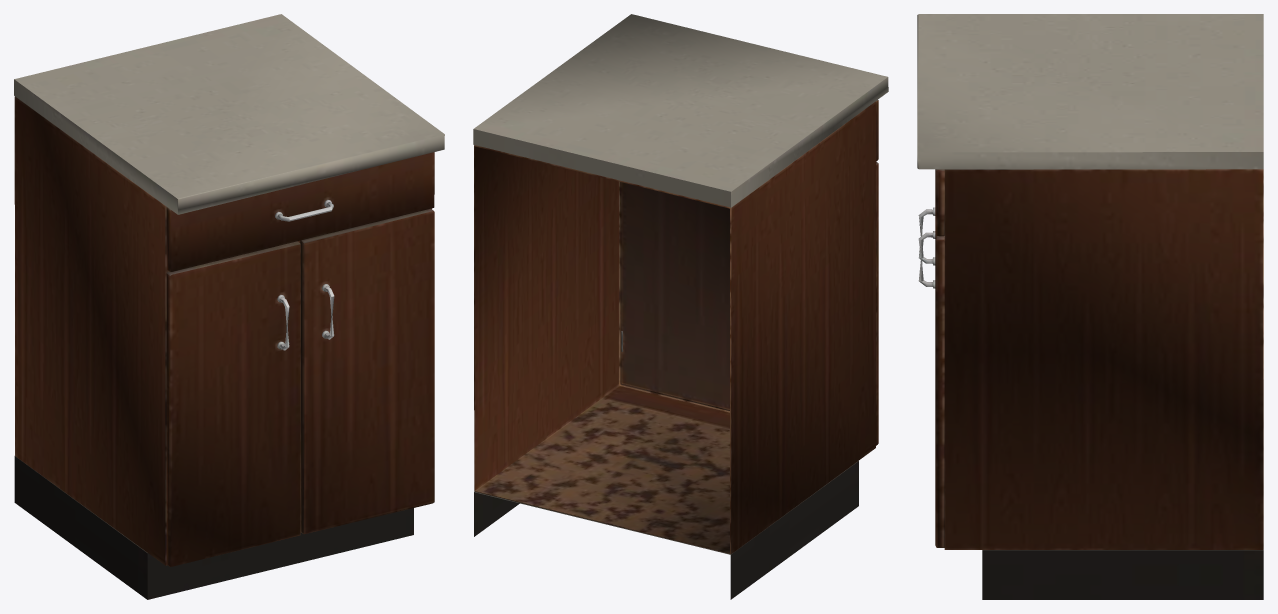
File: kit_base_60-low.glb
The picture shows the model from 3 angles, left to right: view 1: azimuth 30°, elevation 25°; view 2: azimuth 150°, elevation 25°; view 3: azimuth 270°, elevation 25°; orthographic projection. The views are drawn at different scales.
Visible parts, largest first — view 1: kit_base_60-low; view 2: kit_base_60-low; view 3: kit_base_60-low.
Boxes of the visible parts, <box> form: kit_base_60-low: <box>14,14,444,599</box>; kit_base_60-low: <box>473,14,888,599</box>; kit_base_60-low: <box>917,14,1263,599</box>.
Size of the model in its own units: 0.598 by 0.905 by 0.6343.
Materials: 1 (1 with a texture image).
